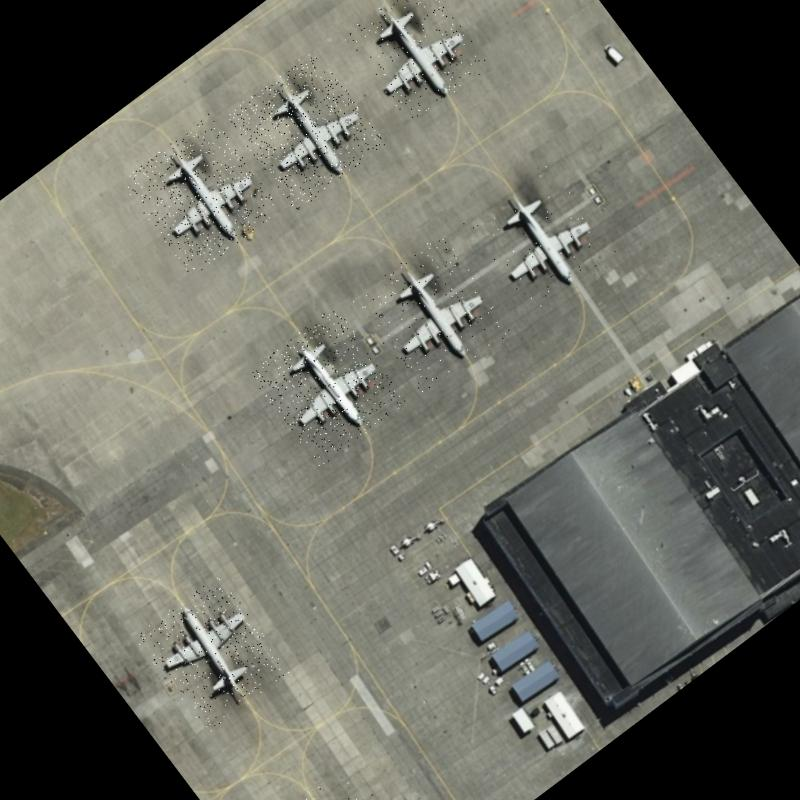A9: (224, 47, 388, 212), (119, 112, 282, 278), (351, 233, 515, 397), (247, 305, 408, 468), (134, 573, 292, 734), (460, 159, 617, 318), (342, 0, 492, 126), (264, 763, 421, 800)
